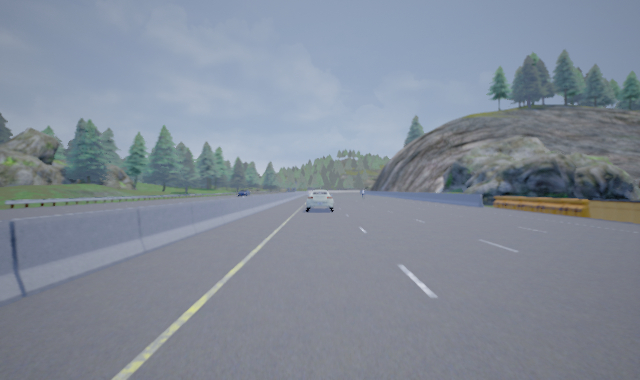vehicle: (305, 189, 334, 212), (236, 189, 249, 197)
